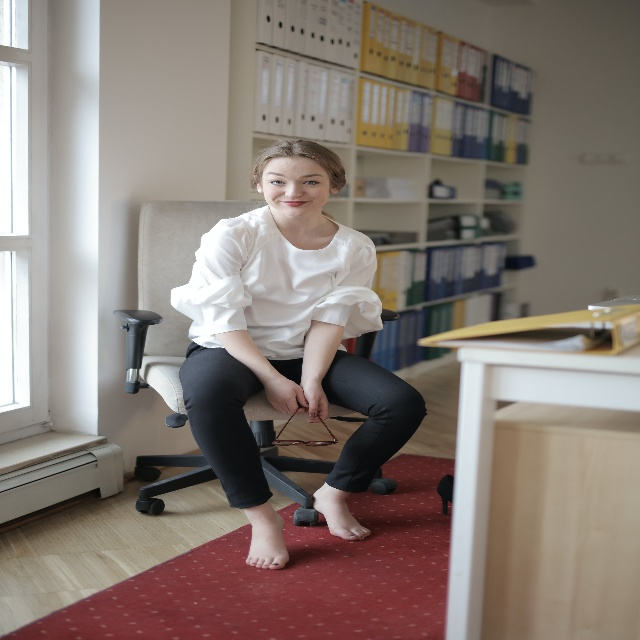Gafas: (271, 405, 338, 447)
Sin_guantes: (264, 373, 310, 414), (300, 377, 329, 424)
